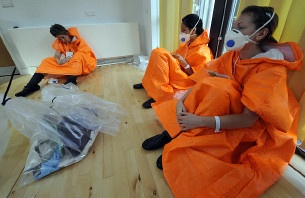Mask: (225, 18, 261, 54)
